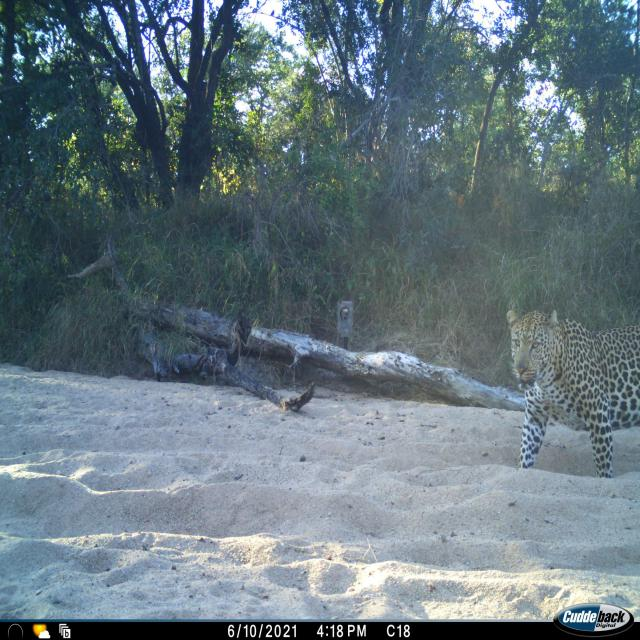Leopard: (496, 301, 640, 490)
